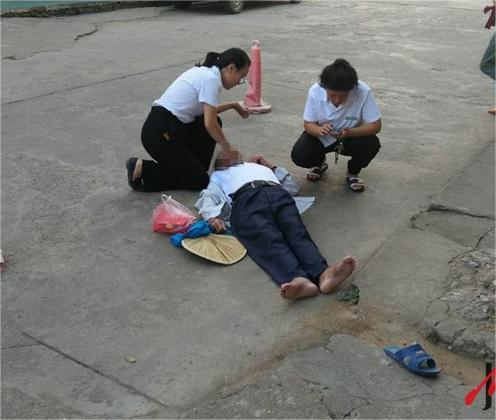bending: (129, 46, 248, 188), (292, 62, 381, 191)
down: (203, 149, 349, 298)
